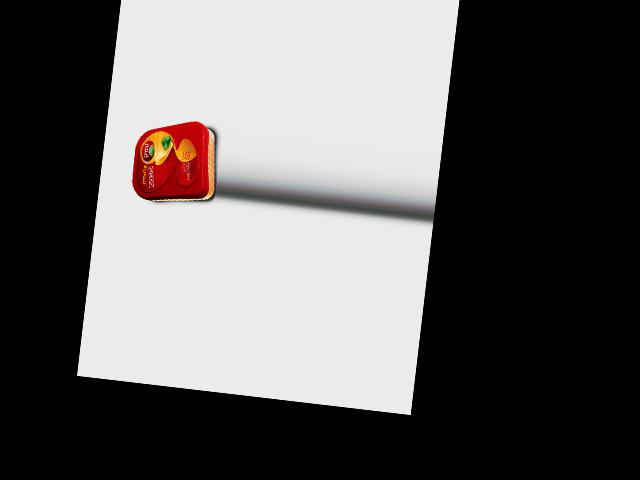cheese: (129, 114, 222, 207)
